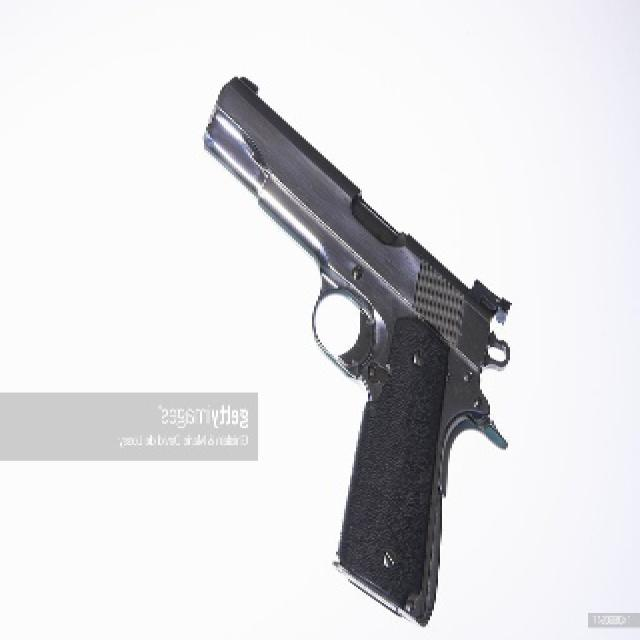handgun: (203, 74, 525, 626)
